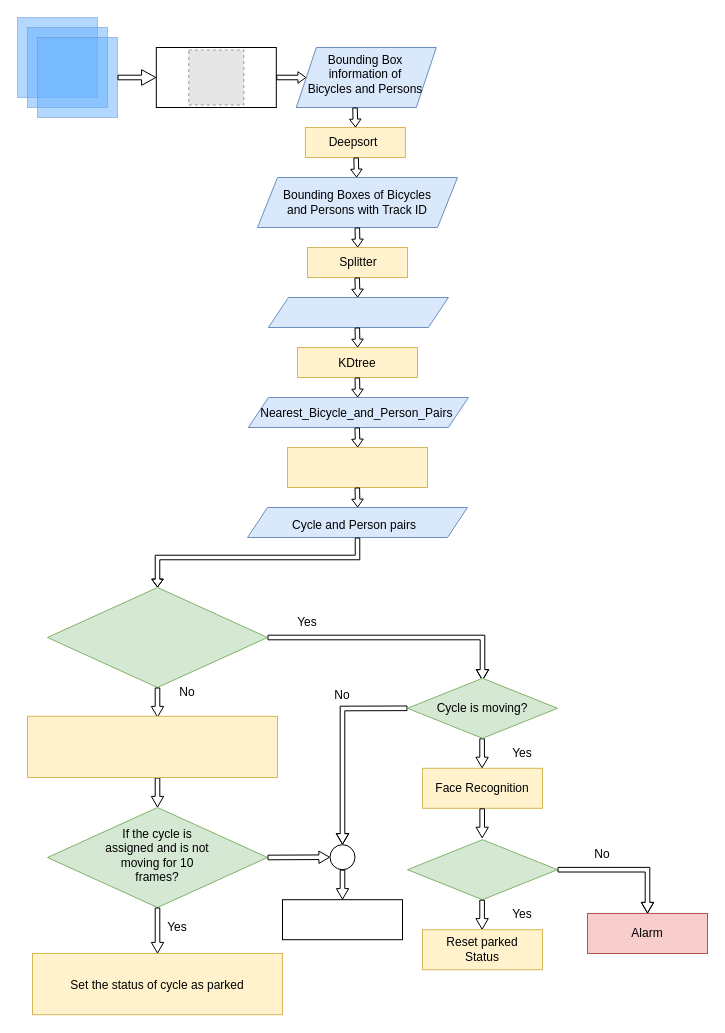
This 725x1033 diagram has some shape labels left out. Grey dashed boxes stand in for pictures. The shapes that lost their labels are listed below. From the top down, each one's box as (x1, y1, x2, y2) in pixels, then its label:
(36, 36, 118, 118): Video Frame
(267, 296, 448, 328): Cycle List, Person List
(286, 446, 428, 488): Select Suitable Cycle and Person pair
(46, 586, 268, 688): For each cycle, is cycle parked?
(26, 715, 278, 778): Assign the cycle to the most suitable person and save the owners image
(406, 839, 558, 900): Face matched with owner?
(282, 899, 402, 940): Do Nothing
